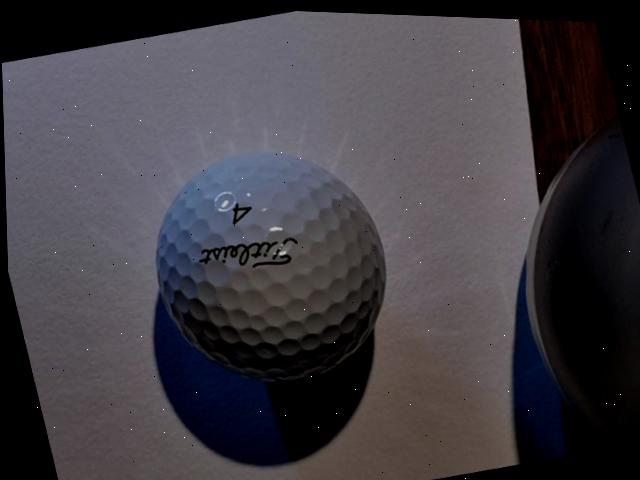Ball: (129, 125, 410, 408)
Titleist: (194, 227, 301, 281)
